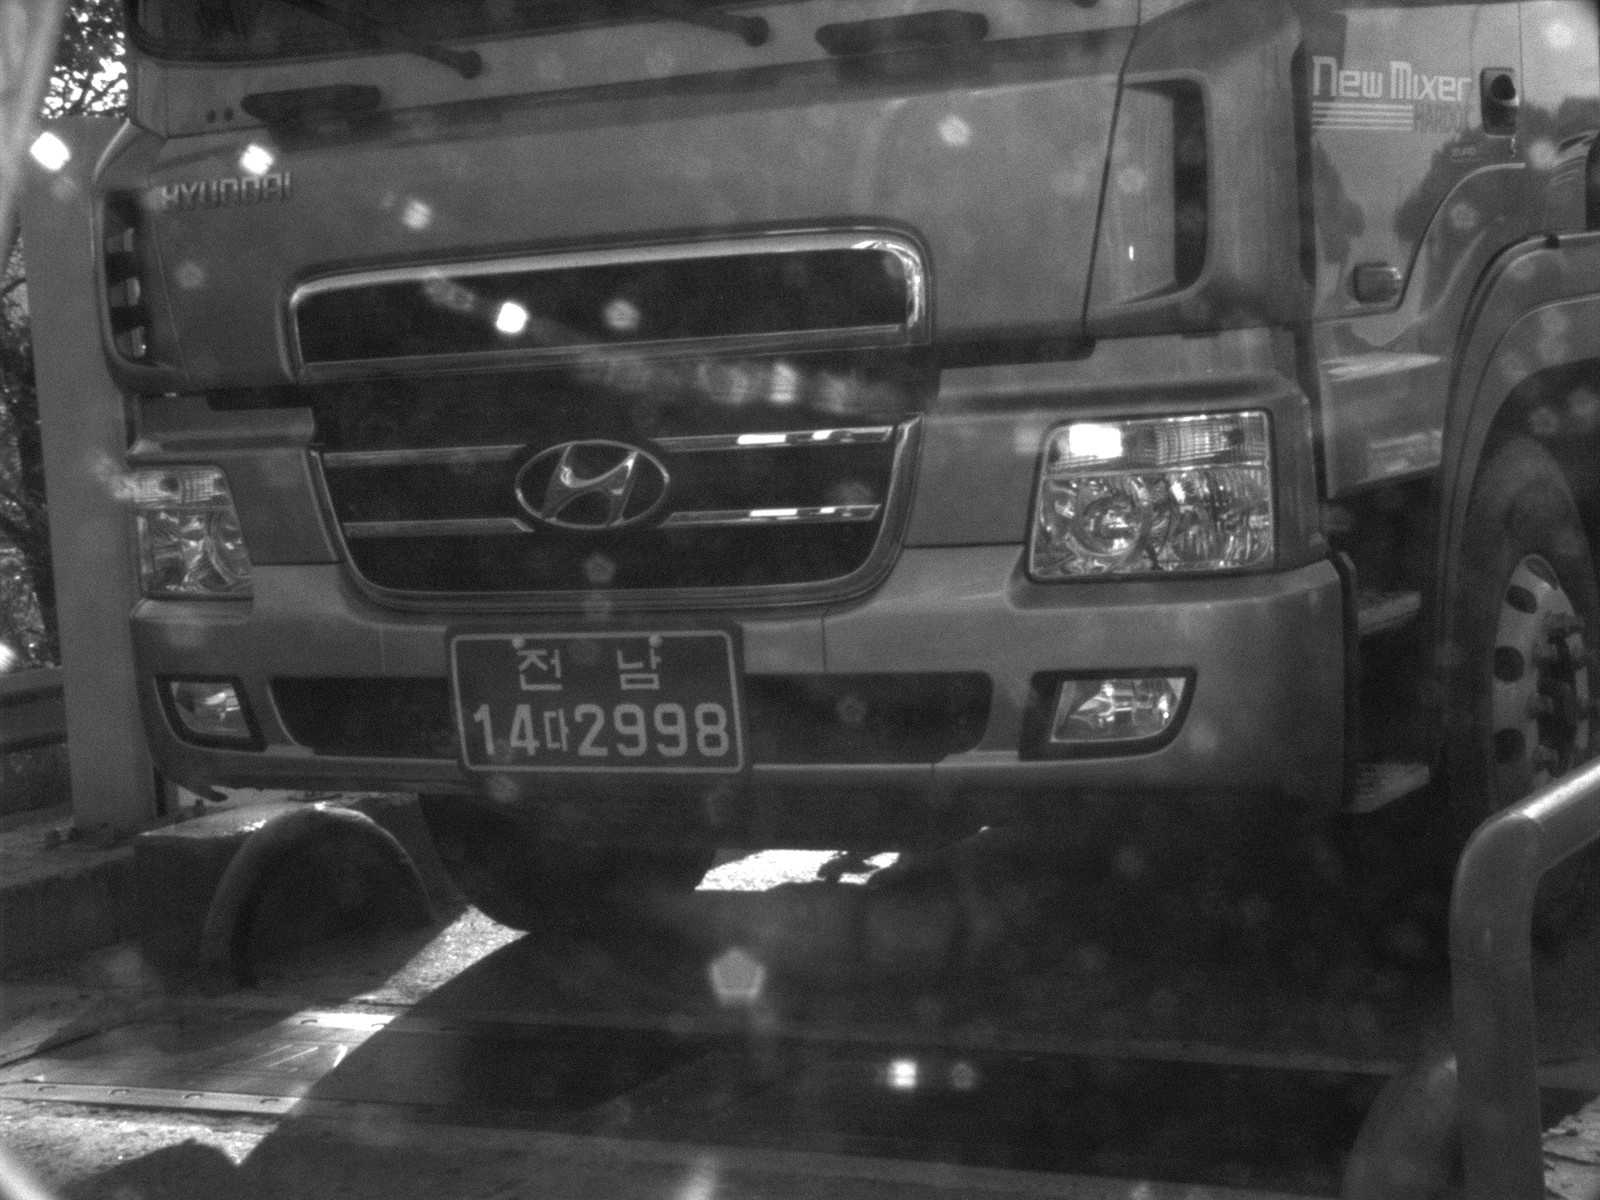car: (80, 1, 1595, 955)
plate: (439, 622, 754, 782)
